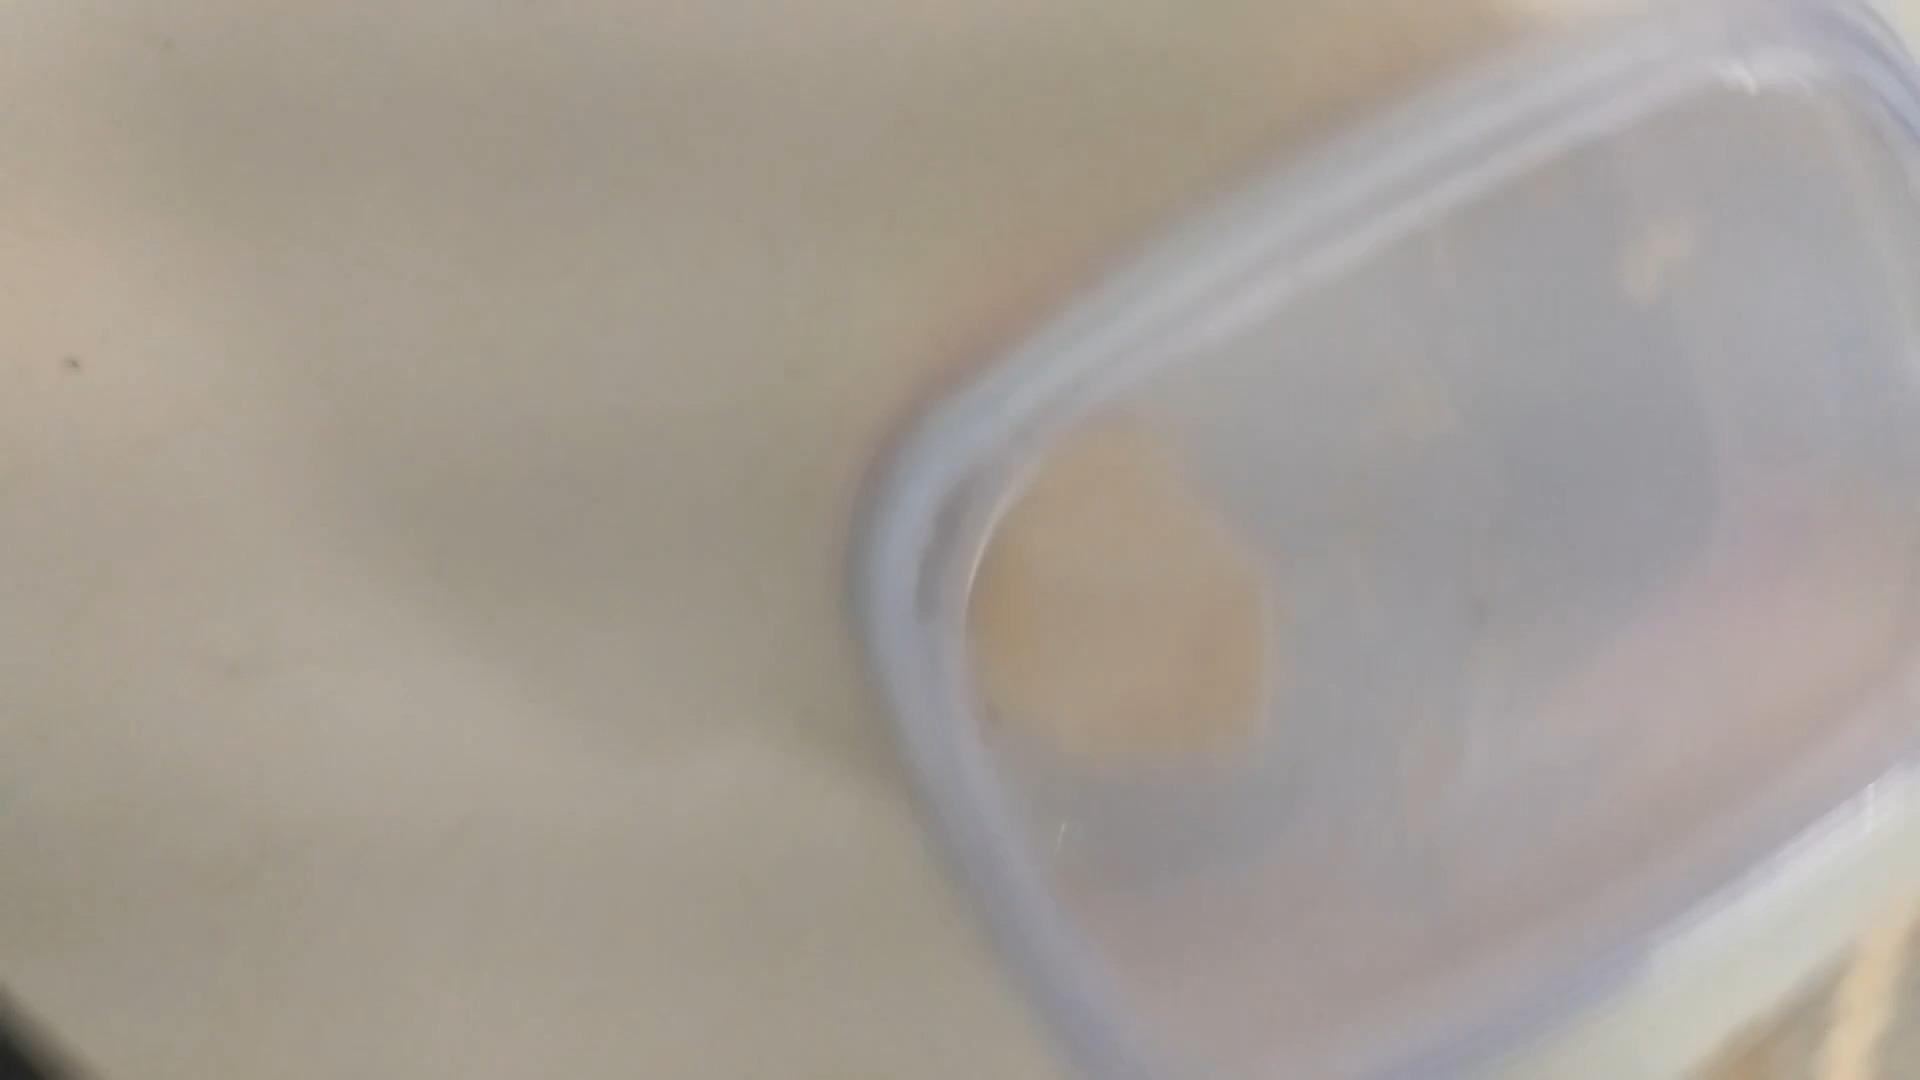butter: (866, 26, 1920, 1077)
